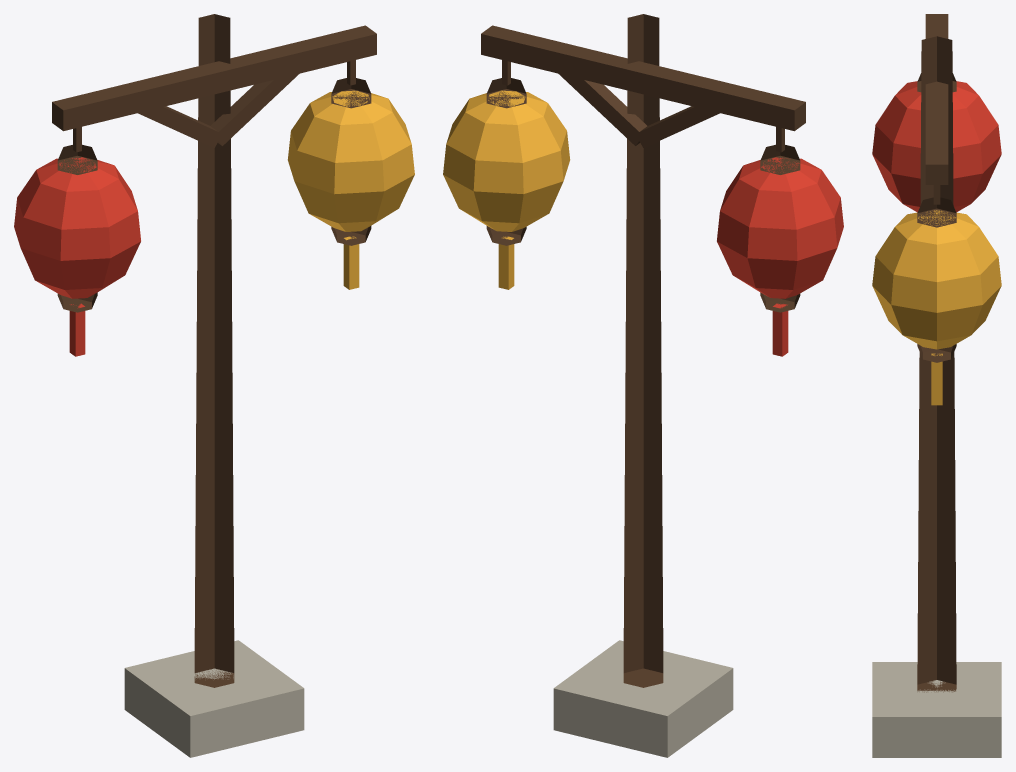
File: viet_lantern_post.glb
The picture shows the model from 3 angles, left to right: view 1: azimuth 30°, elevation 25°; view 2: azimuth 150°, elevation 25°; view 3: azimuth 270°, elevation 25°; orthographic projection.
Parts seen in each view (by area): view 1: viet_lantern_post; view 2: viet_lantern_post; view 3: viet_lantern_post.
Part boxes in pixels (bbox=[...]): viet_lantern_post: bbox=[14, 14, 414, 757]; viet_lantern_post: bbox=[443, 14, 843, 757]; viet_lantern_post: bbox=[872, 14, 1001, 757].
Size of the model in its own units: 0.5812 by 1 by 0.1709.
